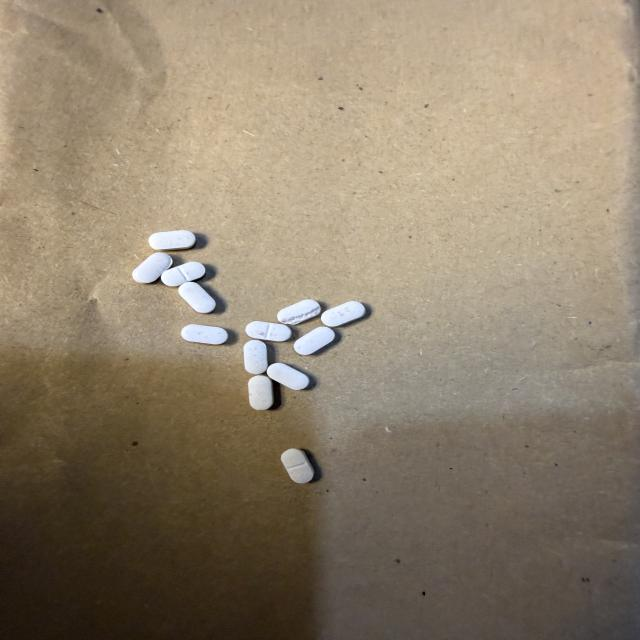pill: (133, 253, 172, 283), (178, 282, 215, 313), (267, 363, 309, 390), (281, 449, 314, 483), (294, 327, 334, 355), (321, 301, 365, 326), (161, 262, 205, 286), (278, 300, 320, 325), (149, 230, 195, 250), (246, 321, 291, 341), (181, 325, 227, 344), (249, 376, 273, 410), (244, 340, 267, 374)
